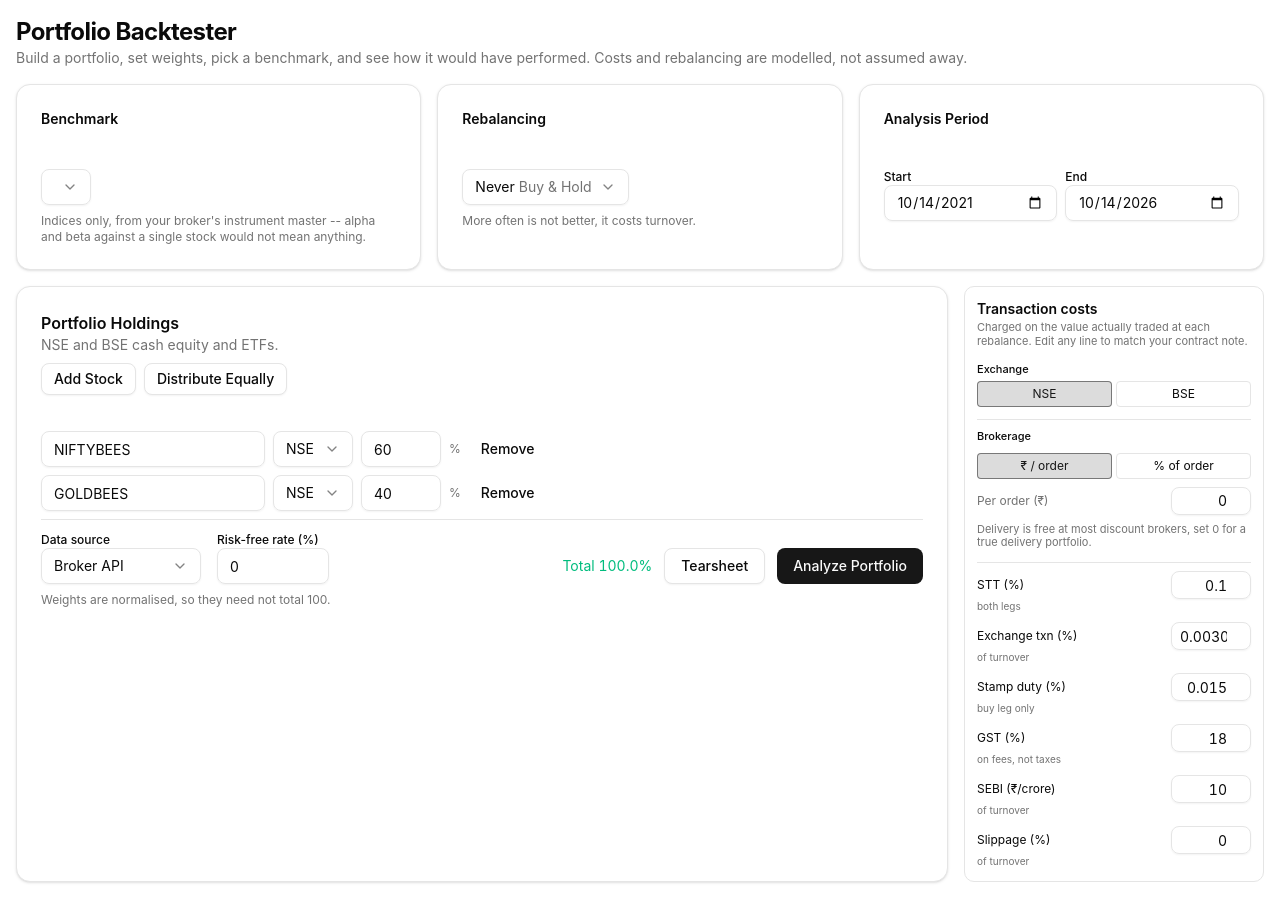
Test case: PortfolioBacktester accessibility › preserves the static controls change behavior
Type "2024-01-02" into the date field labelled "Start" at [971, 203], box [884,185,1057,221]
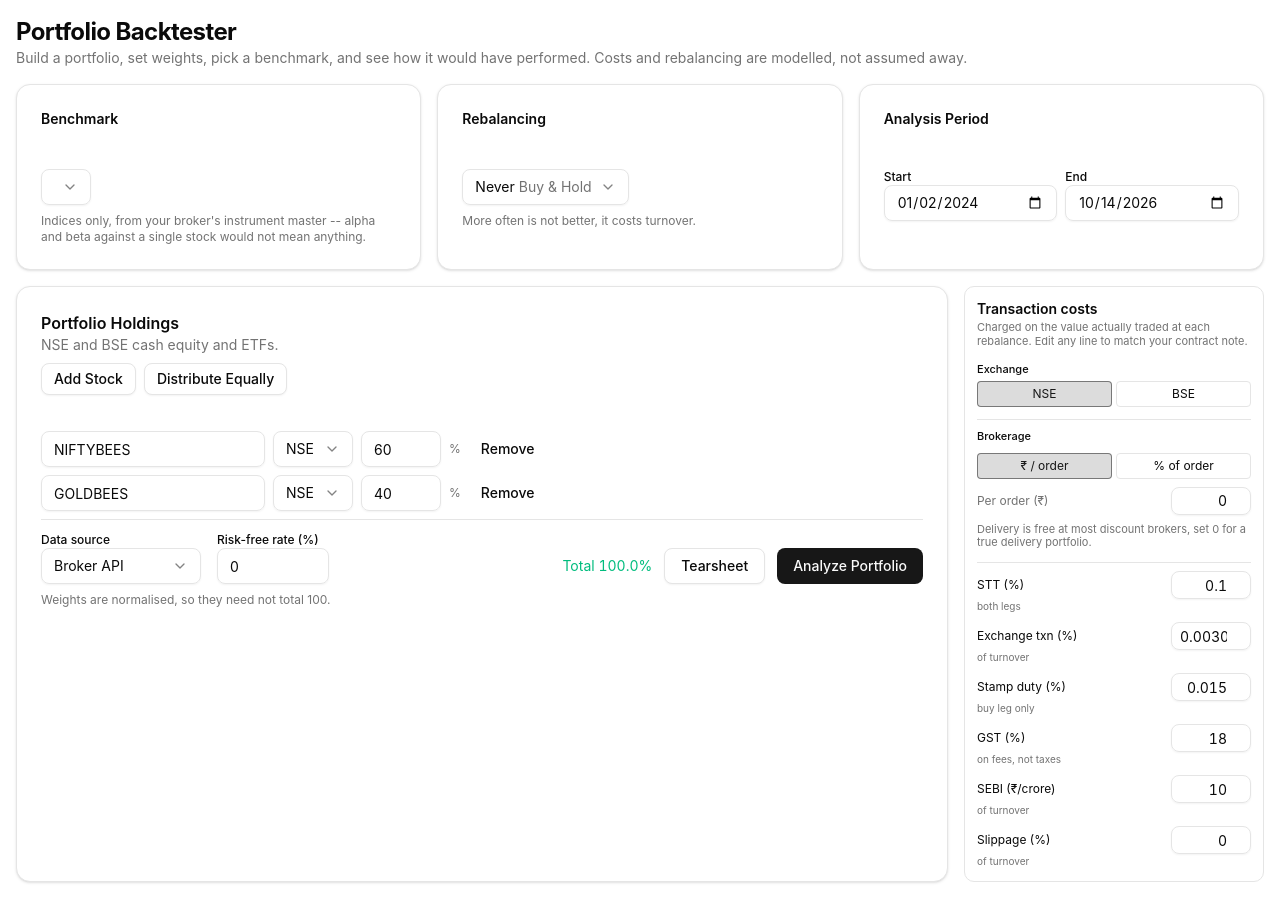
Type "2025-01-02" into the date field labelled "End" at [1152, 203], box [1065,185,1239,221]
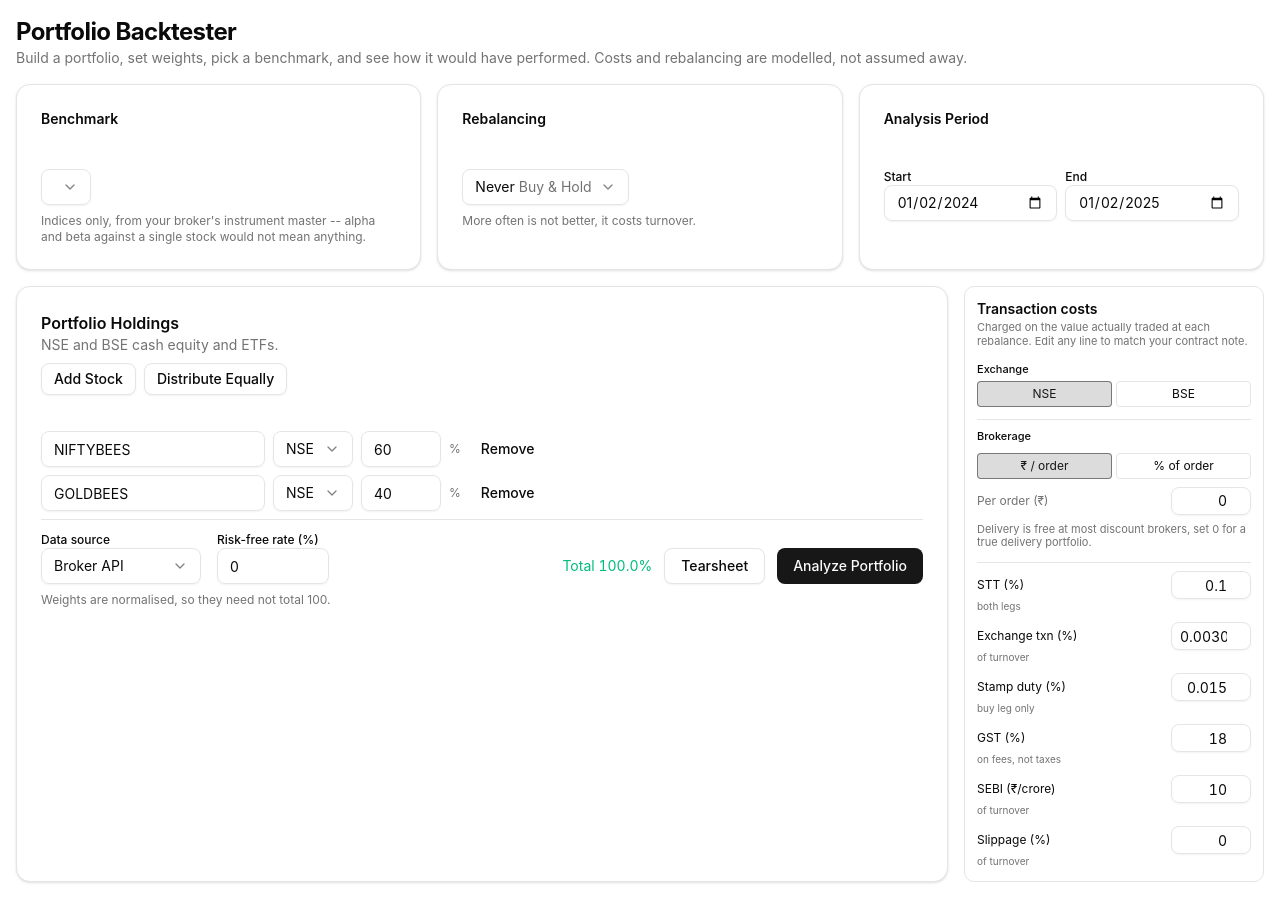
Replace the text in the number field labelled "Risk-free rate (%)" with "6.5" at [273, 566], box [217,548,329,584]
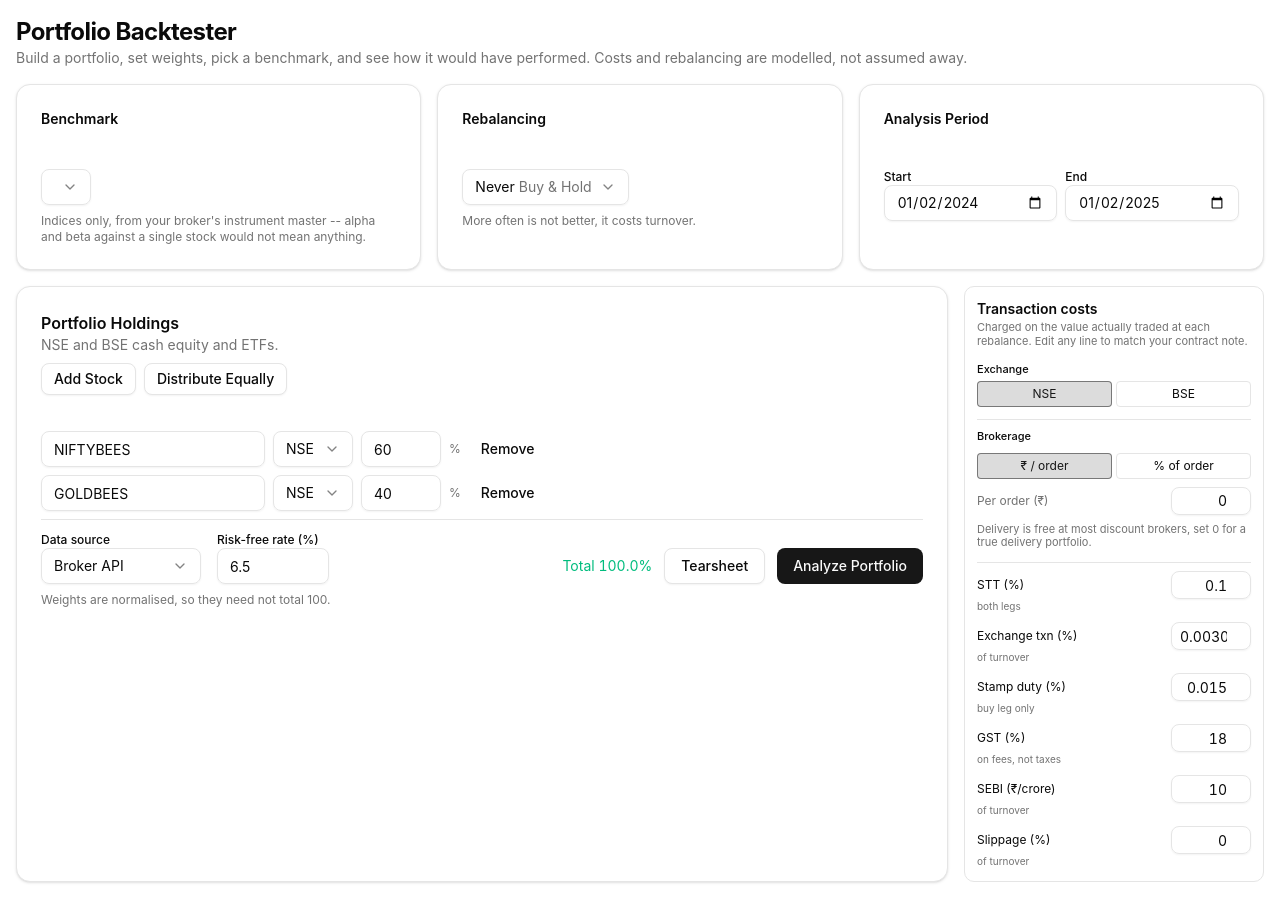
Press ArrowDown in the dropdown named "Data source", box [41,548,201,584]
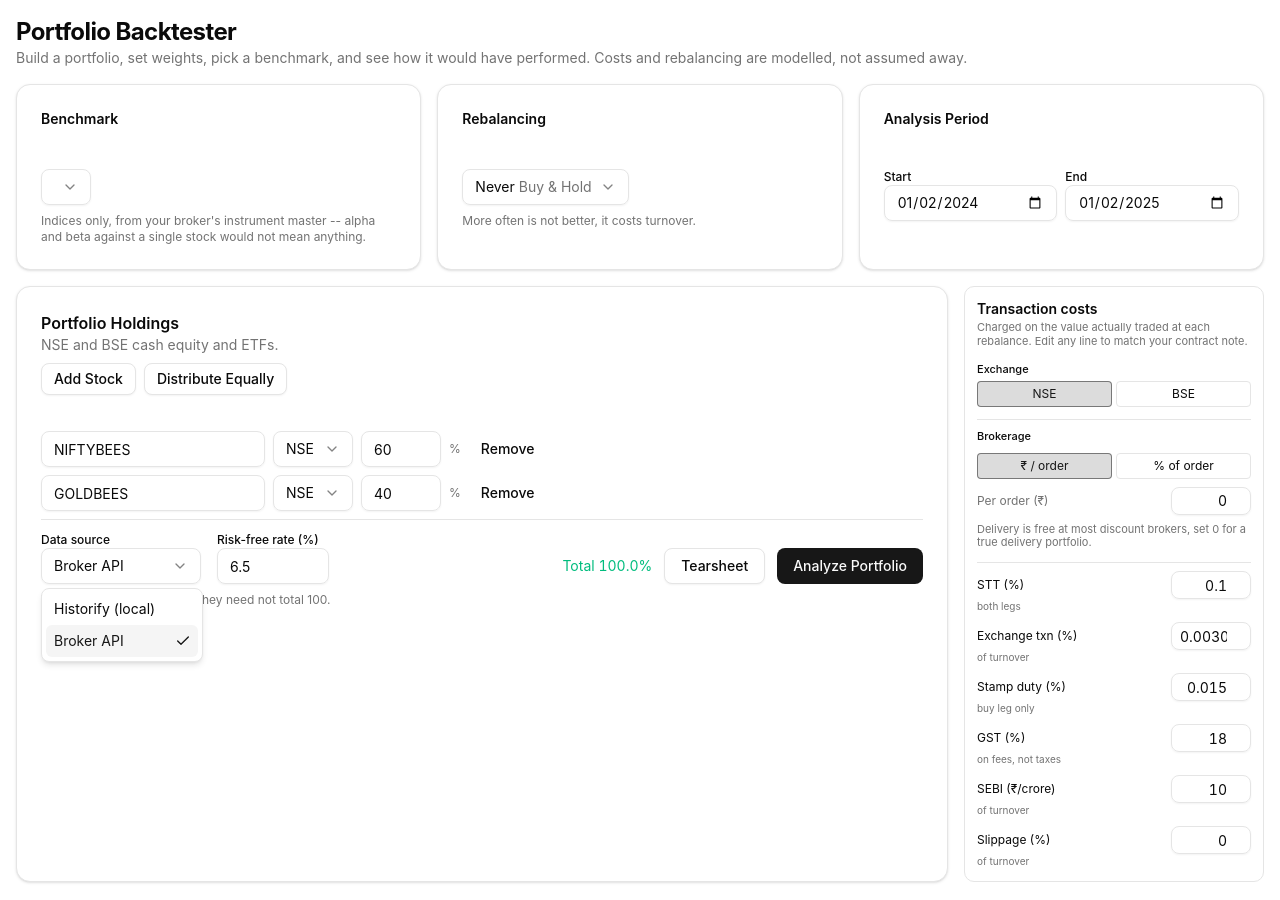
Click the option "Historify (local)" at [105, 608], box [54,600,155,617]
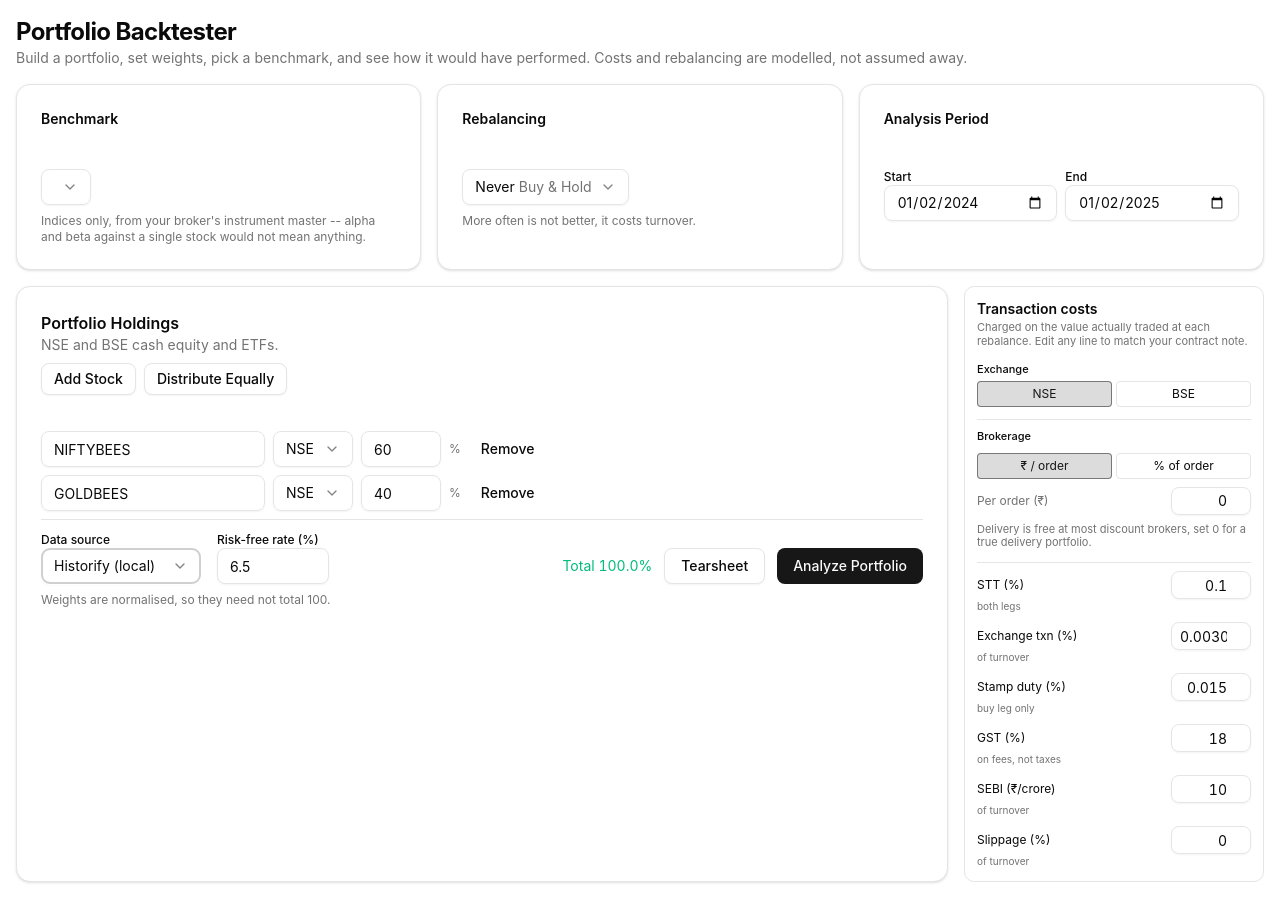
Check: the dropdown named "Data source" reads "Historify (local)", box [41,548,201,584]
